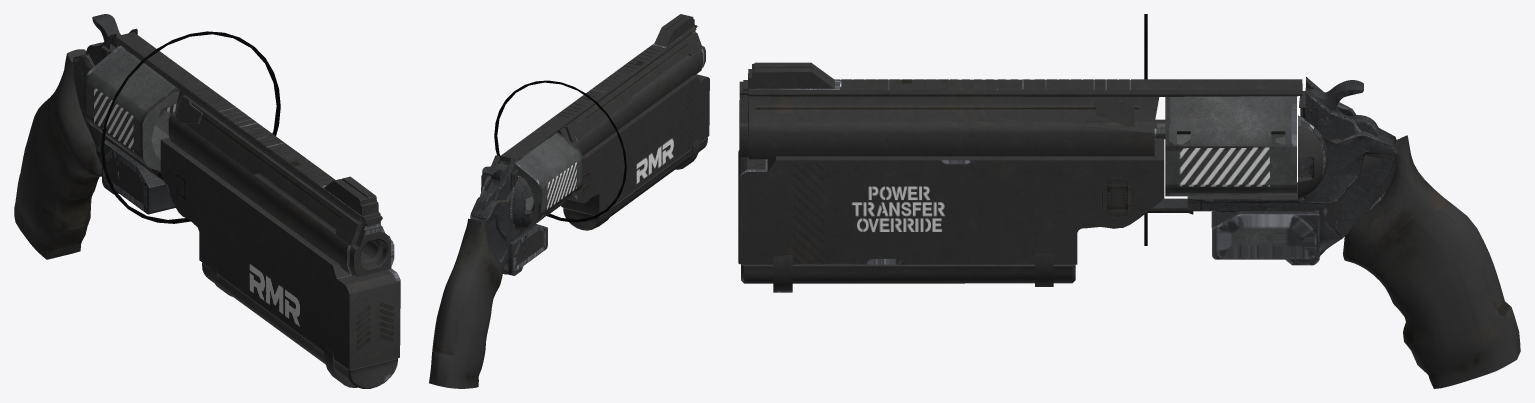
Rendered from Mesh_revolver.fbx.
3 views of the same model, side by side, from view 1: azimuth 30°, elevation 25°; view 2: azimuth 150°, elevation 25°; view 3: azimuth 270°, elevation 25° (orthographic). The views are drawn at different scales.
Parts seen in each view (by area): view 1: Mesh_frontbody., Mesh_handle, Mesh_revolver_cylinder, Mesh_puller, Mesh_backbody, Mesh_circle; view 2: Mesh_frontbody., Mesh_handle, Mesh_backbody, Mesh_revolver_cylinder, Mesh_puller, Mesh_circle; view 3: Mesh_frontbody., Mesh_handle, Mesh_backbody, Mesh_revolver_cylinder, Mesh_puller.
Boxes of the visible parts, <box> form: Mesh_frontbody.: <box>114,32,400,388</box>; Mesh_handle: <box>14,49,101,259</box>; Mesh_revolver_cylinder: <box>84,46,179,171</box>; Mesh_puller: <box>102,140,175,214</box>; Mesh_backbody: <box>73,14,163,180</box>; Mesh_circle: <box>101,31,280,223</box>; Mesh_frontbody.: <box>500,14,709,230</box>; Mesh_handle: <box>429,218,502,388</box>; Mesh_backbody: <box>470,155,565,274</box>; Mesh_revolver_cylinder: <box>481,132,583,223</box>; Mesh_puller: <box>507,224,547,275</box>; Mesh_circle: <box>494,80,626,222</box>; Mesh_frontbody.: <box>738,62,1302,292</box>; Mesh_handle: <box>1343,135,1520,388</box>; Mesh_backbody: <box>1146,77,1397,256</box>; Mesh_revolver_cylinder: <box>1154,96,1296,196</box>; Mesh_puller: <box>1211,210,1319,265</box>.
Bounding box in the file's own units: 0.1577 × 0.2662 × 0.5314.
2 materials, 1 textured.
